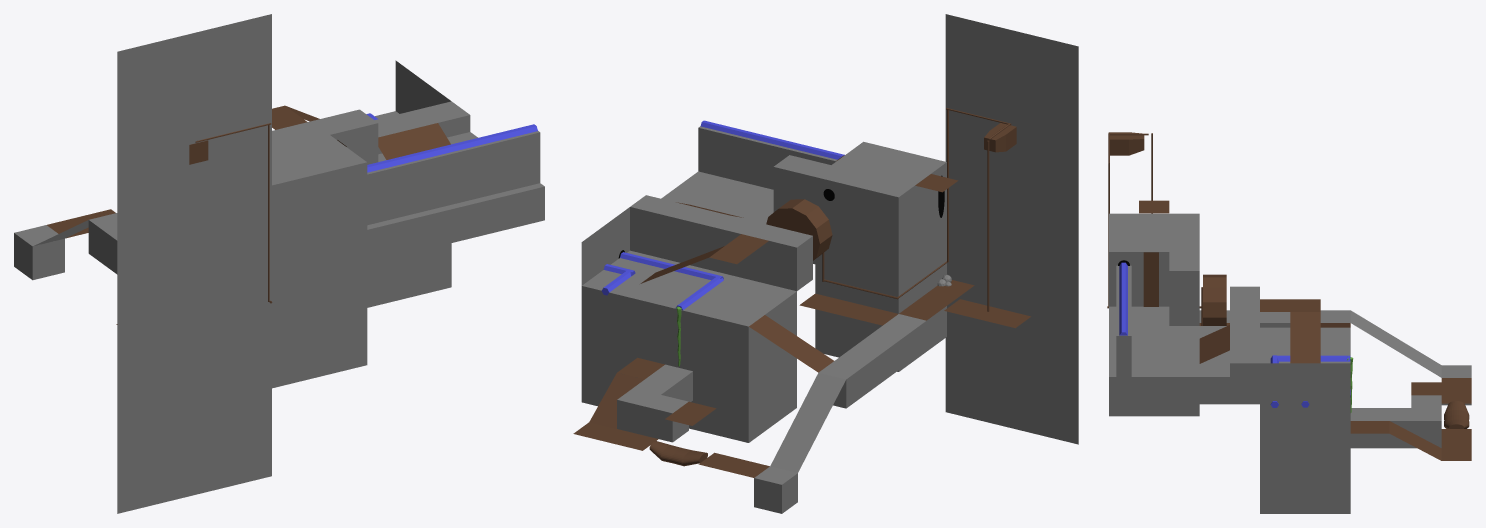
The model's file is level_design.dae.
3 renders of one model, left to right at view 1: azimuth 30°, elevation 25°; view 2: azimuth 150°, elevation 25°; view 3: azimuth 270°, elevation 25°, orthographic. The views are drawn at different scales.
Parts seen in each view (by area): view 1: Plane.014, Cube.006, Cube.012, Cube.007, Cube.002, Cube.003, Cube.005, Cube.010, Cube.008, Plane.010, Plane.009, Cube.004 (+2 smaller); view 2: Plane.014, Cube.002, Cube.006, Cube.005, Cube.004, Cube.012, Cube.007, Plane.005, Cube, Plane.009, Cube.010, Cylinder.006 (+16 smaller); view 3: Cube.002, Cube.007, Cube.006, Plane.009, Cube.005, Cube.010, Cube.001, Plane.007, Cube, Cylinder.006, Plane.005, Cube.012 (+15 smaller).
Boxes of the visible parts, x1,y1,x2,y2 form: Plane.014: (117,14,271,513); Cube.006: (270,121,367,388); Cube.012: (367,131,540,225); Cube.007: (378,132,544,251); Cube.002: (367,111,451,307); Cube.003: (14,225,64,280); Cube.005: (374,101,470,154); Cube.010: (311,109,378,164); Cube.008: (367,214,415,263); Plane.010: (378,123,450,159); Plane.009: (395,60,450,113); Cube.004: (88,213,117,274); Plane.014: (945,14,1078,444); Cube.002: (581,250,796,442); Cube.006: (815,141,946,371); Cube.005: (630,195,812,291); Cube.004: (818,314,926,408); Cube.012: (698,126,837,189); Cube.007: (661,171,773,224); Plane.005: (770,373,845,472); Cube: (617,388,688,442); Plane.009: (581,207,629,285); Cube.010: (773,155,830,211); Cylinder.006: (766,199,832,260); Cube.002: (1260,327,1350,513); Cube.007: (1109,326,1229,404); Cube.006: (1109,213,1199,416); Plane.009: (1260,363,1350,404); Cube.005: (1230,286,1259,404); Cube.010: (1169,252,1199,325); Cube.001: (1350,408,1411,448); Plane.007: (1290,312,1320,363); Cube: (1411,395,1441,448); Cylinder.006: (1203,274,1226,325); Plane.005: (1350,310,1441,377); Cube.012: (1116,265,1131,376).
Size of the model in its own units: 26.54 by 24.11 by 27.33.
